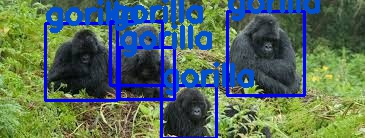gorilla: (226, 10, 303, 95), (45, 22, 117, 99), (110, 21, 162, 84), (160, 84, 215, 138), (119, 47, 174, 99)
